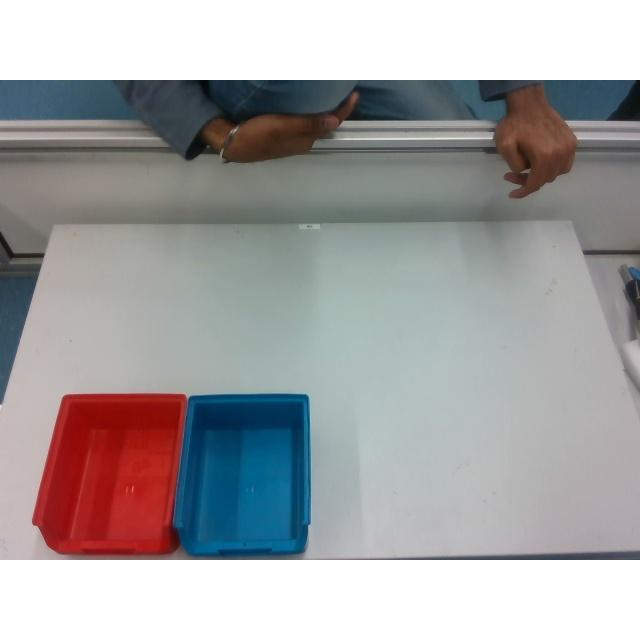container_box_blue: (174, 394, 310, 554)
container_box_red: (33, 393, 185, 553)
